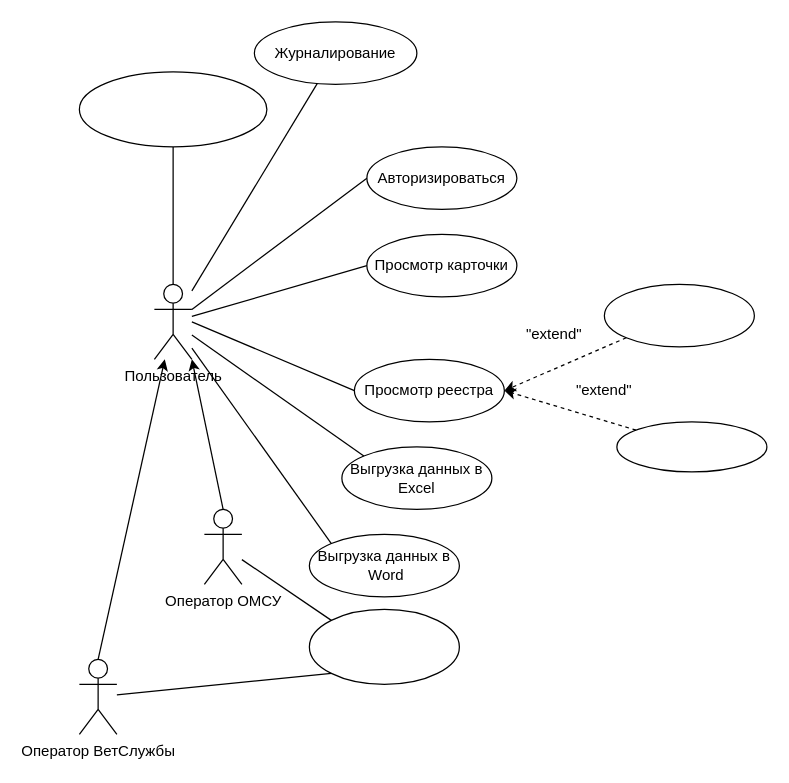
Some shapes in this 789 by 783 pixel diagram are drawn without their labels. The centre of each missing label's shape, as x and y in pixels:
Запись на регистрацию: pixel 172 109
Сортировка: pixel 691 446
Управление реестром: pixel 383 646
Управление фильтрацией: pixel 678 315
